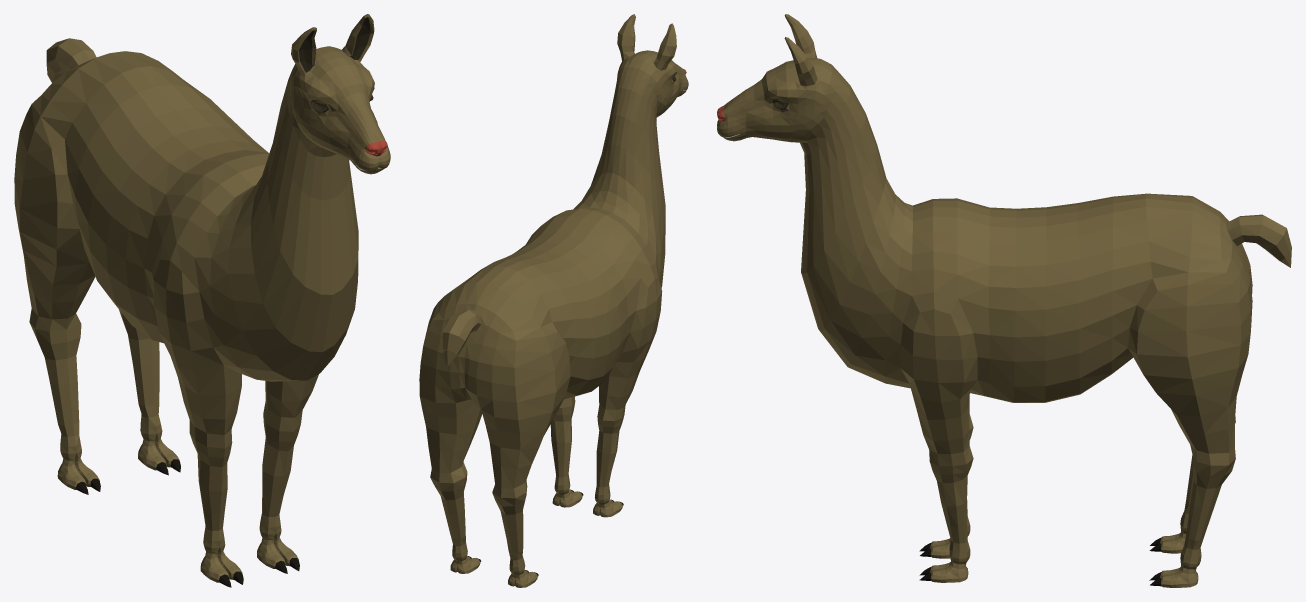
File: llama_llama_triangulated.obj
3 renders of one model, left to right at view 1: azimuth 30°, elevation 25°; view 2: azimuth 150°, elevation 25°; view 3: azimuth 270°, elevation 25°, orthographic. The views are drawn at different scales.
Size of the model in its own units: 0.5862 by 1.85 by 1.79.
